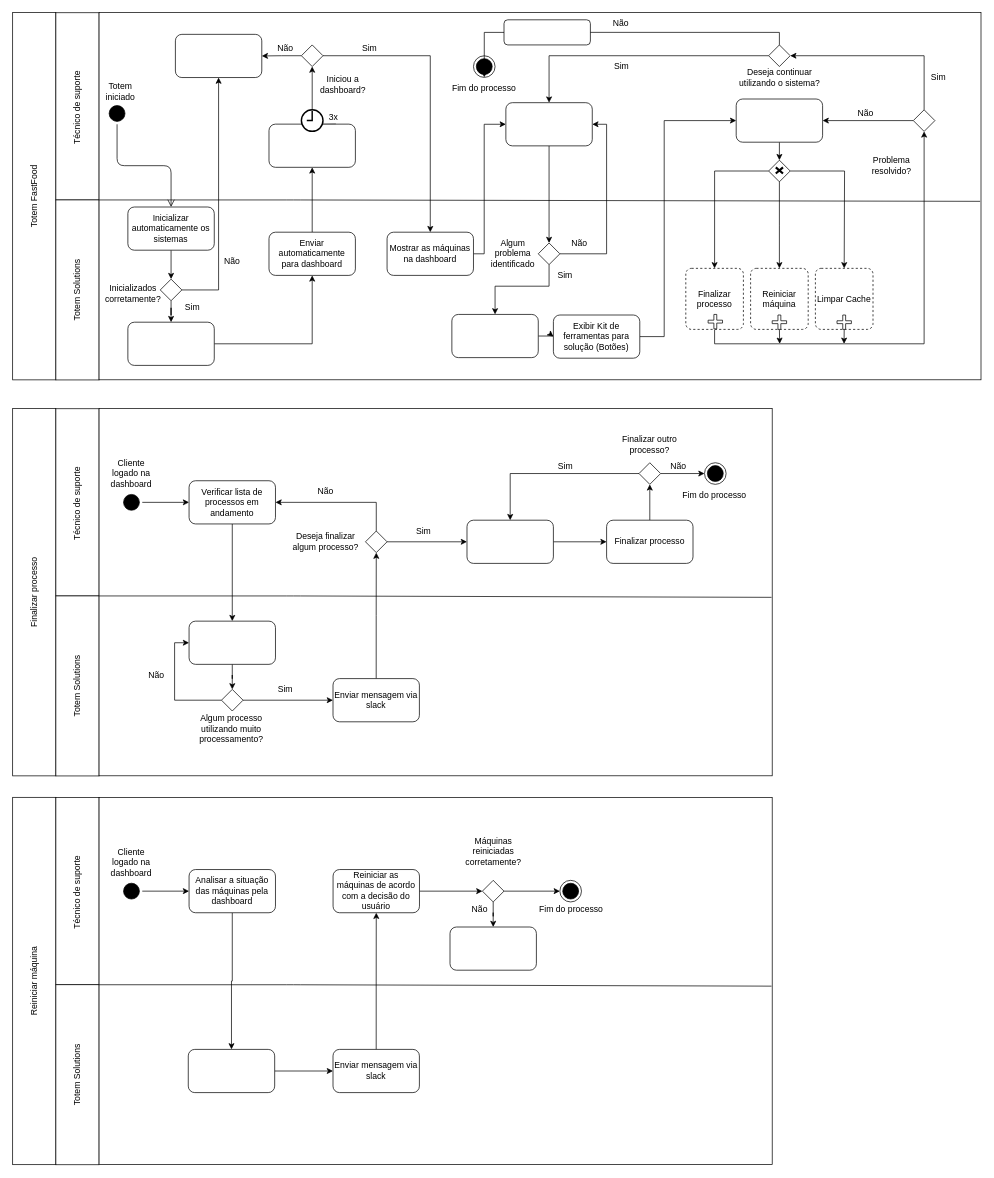
Image size: 994x1178. Some labels were removed from this diagram. Each missing label, with the centre of its shape:
"Abrir dashboard" belongs at (311,145).
"Desligar sistema" belongs at (546,32).
"Entrar em contato com o suporte" belongs at (492,948).
"Entrar em contato com suporte" belongs at (218,56).
"Enviar mensagem por slack" belongs at (494,336).
"Escolher ferramenta que será utilizada" belongs at (779,120).
"Escolher processo para finalizar" belongs at (509,541).
"Iniciar captura de dados automaticamente" belongs at (170,343).
"Mostrar máquinas que estão em estado crítico" belongs at (231,1071).
"Verificar andamento das maquinas" belongs at (548,124).
"Verificar processos que utilizam muito processamento" belongs at (231,642).
